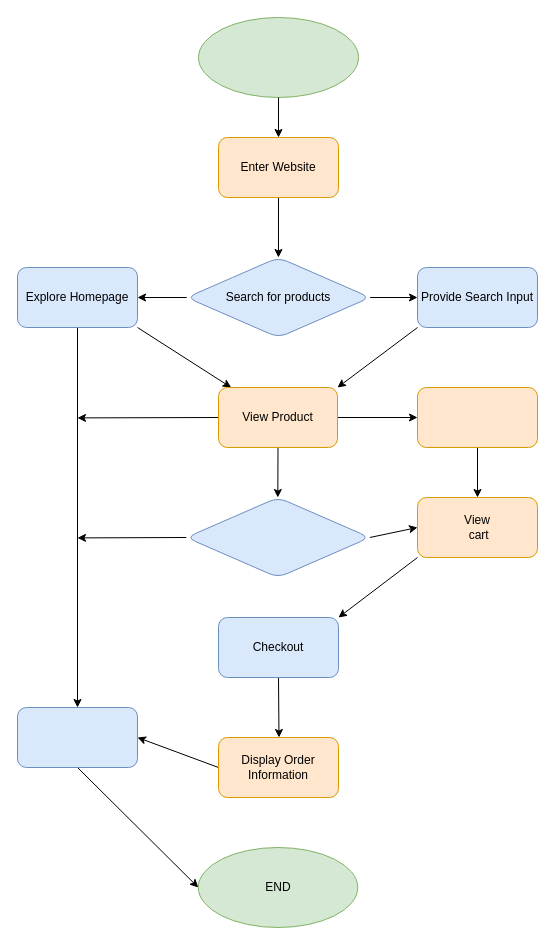
This 555x945 diagram has some shape labels left out. Here are the shapes that lost their labels. From the top down, the centre of each, then its label:
At (x=278, y=57): "User Enters Website".
At (x=477, y=417): "Add to cart".
At (x=277, y=537): "Continue Shopping?".
At (x=77, y=737): "Leave Website".
